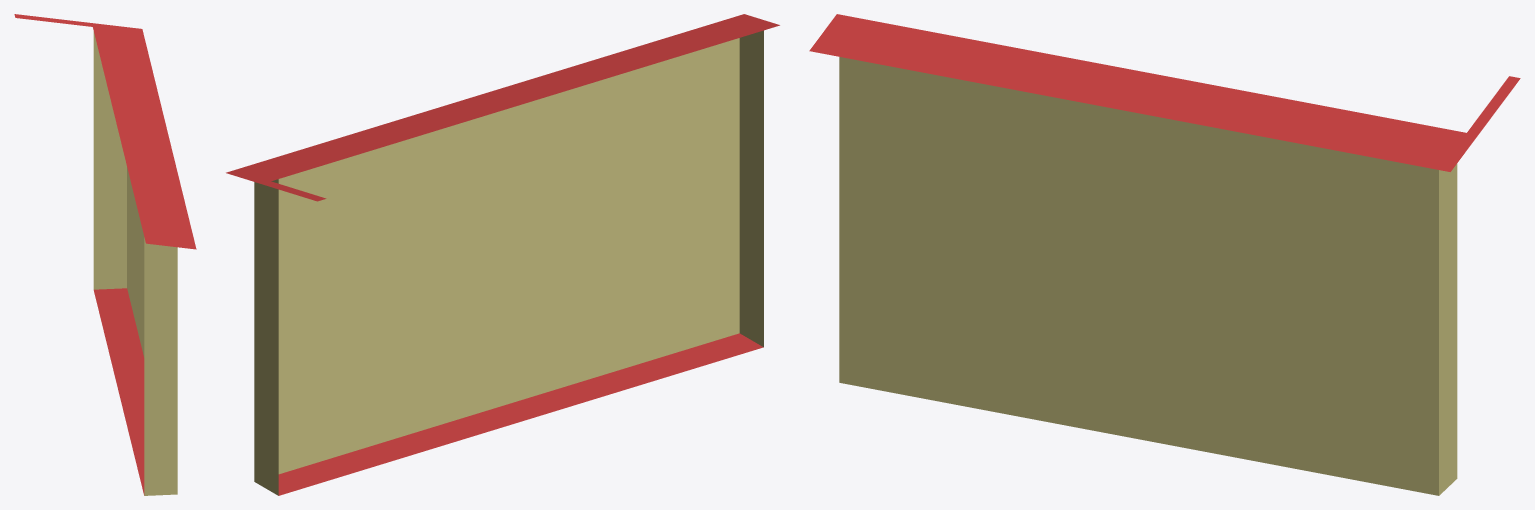
The picture shows the model from 3 angles, left to right: view 1: azimuth 30°, elevation 25°; view 2: azimuth 150°, elevation 25°; view 3: azimuth 270°, elevation 25°; orthographic projection. The views are drawn at different scales.
Parts seen in each view (by area): view 1: group_5, group_3, group_6, group_4; view 2: group_5, group_3, group_6; view 3: group_5, group_3, group_4.
Boxes of the visible parts, bbox=[...] form: group_5: bbox=[93, 31, 177, 495]; group_3: bbox=[14, 14, 196, 249]; group_6: bbox=[93, 288, 144, 495]; group_4: bbox=[15, 15, 190, 243]; group_5: bbox=[254, 30, 763, 495]; group_3: bbox=[226, 14, 779, 201]; group_6: bbox=[278, 333, 763, 495]; group_5: bbox=[839, 57, 1457, 495]; group_3: bbox=[809, 14, 1520, 171]; group_4: bbox=[837, 15, 1516, 171].
Bounding box in the file's own units: 11.44 × 23.36 × 13.18.
